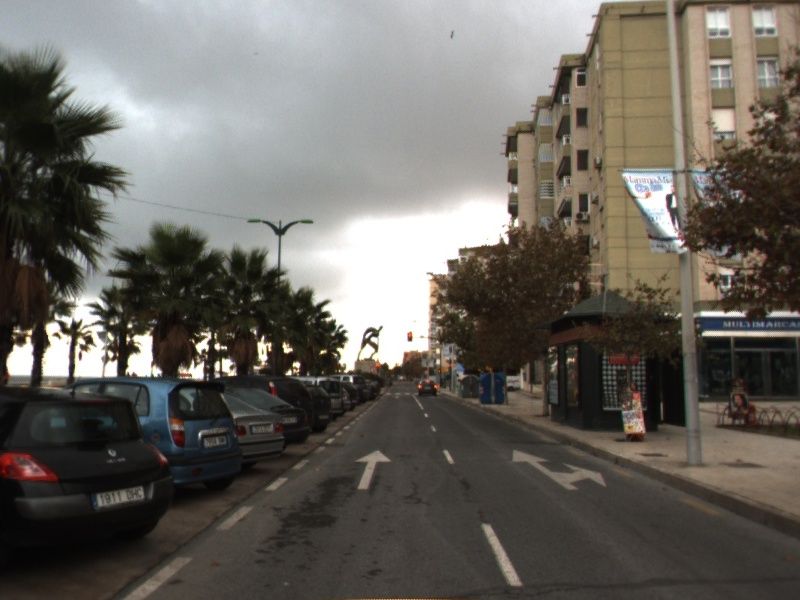STRAIGHT: (353, 448, 394, 491)
STRAIGHT_RIGHT: (511, 448, 608, 491)
